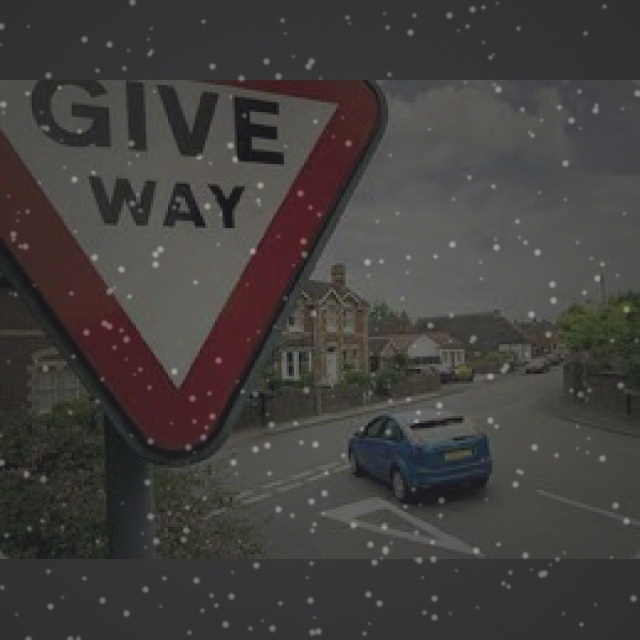Give_Way: (8, 80, 360, 402)
